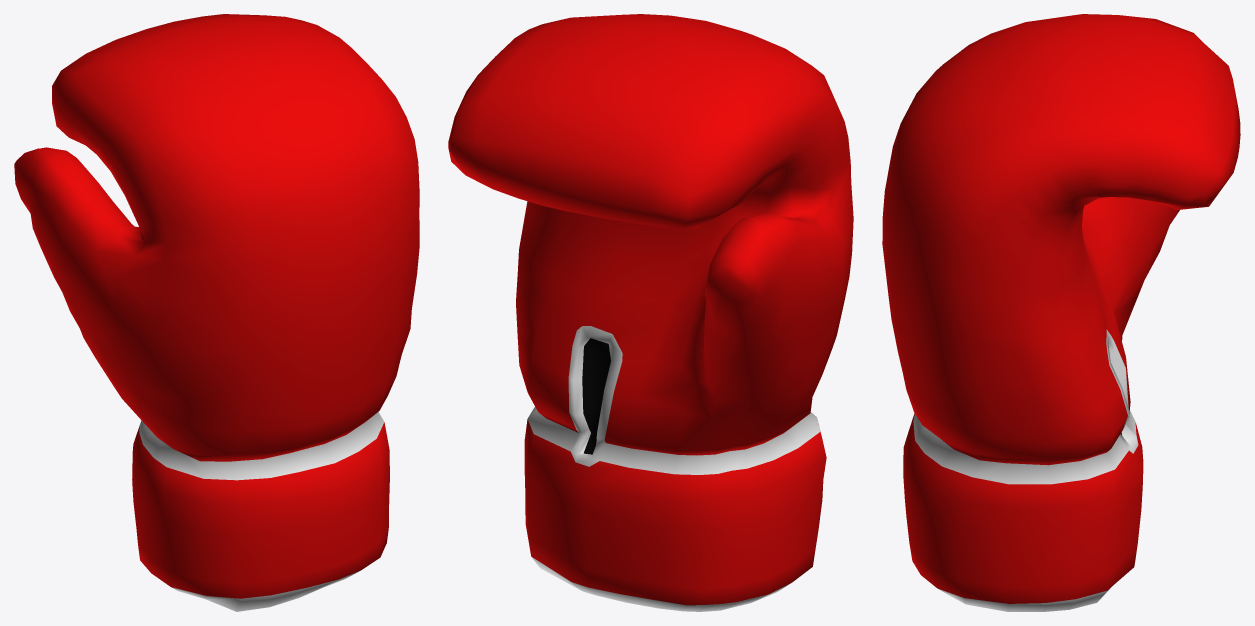
File: guantes_remeshDER.fbx
3 views of the same model, side by side, from view 1: azimuth 30°, elevation 25°; view 2: azimuth 150°, elevation 25°; view 3: azimuth 270°, elevation 25° (orthographic). The views are drawn at different scales.
Visible parts, largest first — view 1: BSurfaceMesh; view 2: BSurfaceMesh; view 3: BSurfaceMesh.
Boxes of the visible parts, x1=… form: BSurfaceMesh: x1=14, y1=14, x2=419, y2=611; BSurfaceMesh: x1=448, y1=14, x2=853, y2=611; BSurfaceMesh: x1=882, y1=14, x2=1240, y2=611.
Size of the model in its own units: 19.84 by 31.88 by 19.96.
